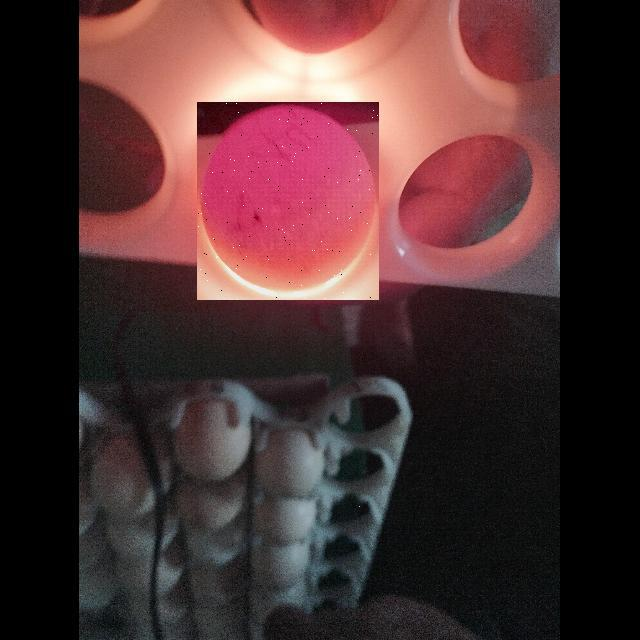Infertile: (197, 102, 379, 300)
